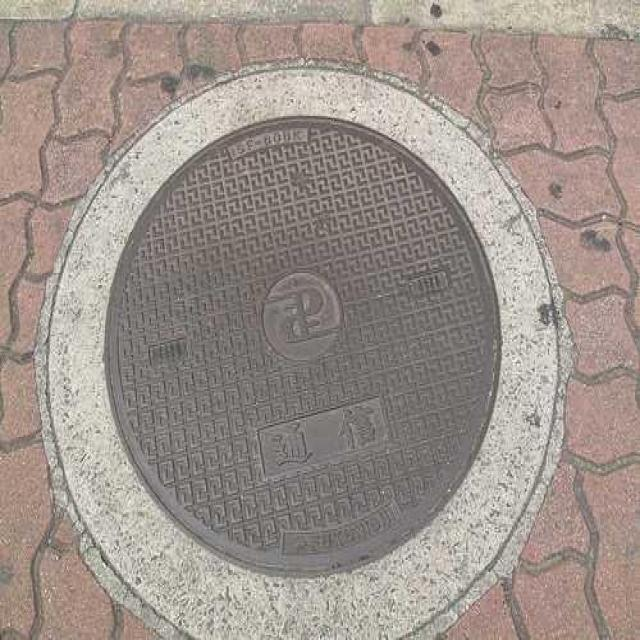manhole: (105, 118, 498, 574)
